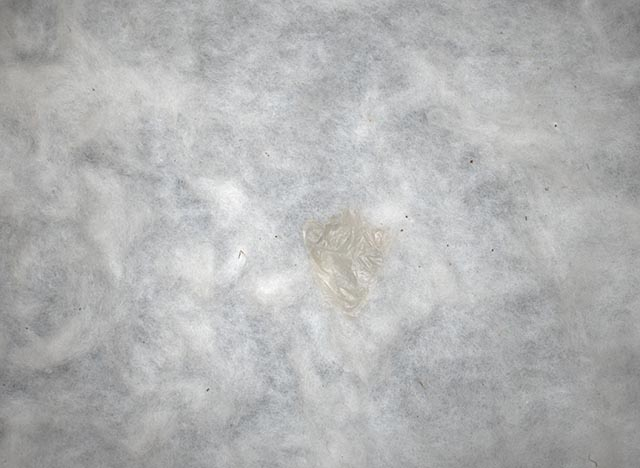plastic film: (302, 201, 395, 324)
